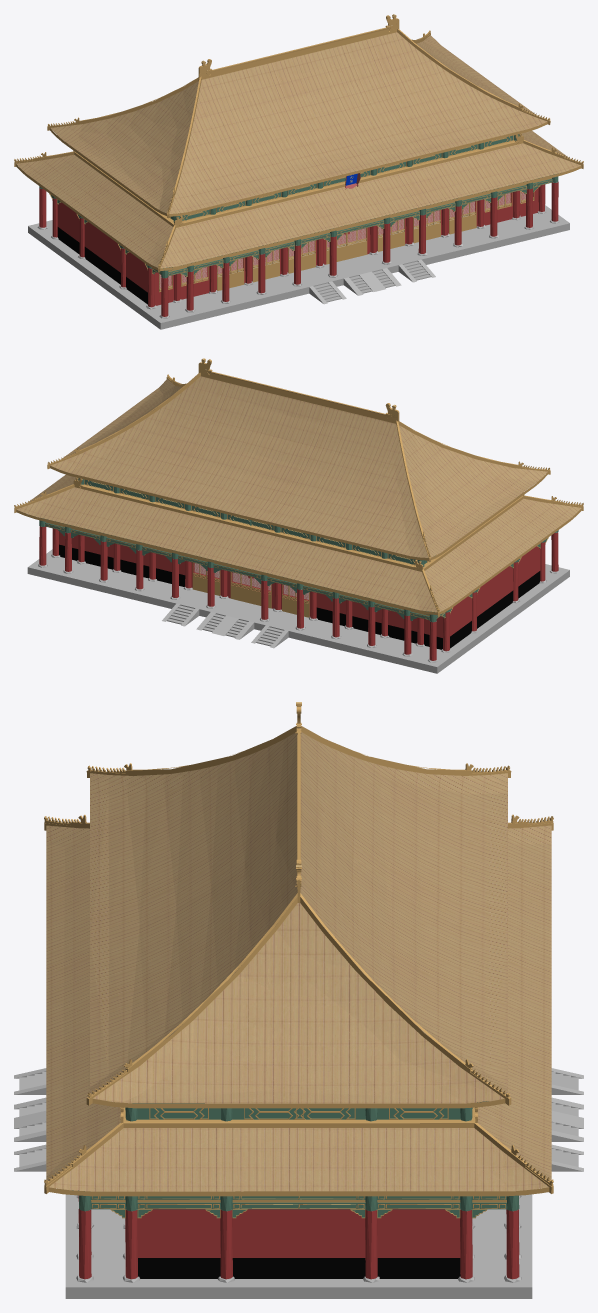
Rendered from 2019_08_08_135350_position_recolor.gltf.
3 renders of one model, top to bottom at view 1: azimuth 30°, elevation 25°; view 2: azimuth 150°, elevation 25°; view 3: azimuth 270°, elevation 25°, orthographic. The views are drawn at different scales.
Visible parts, largest first — view 1: polySurface3809:PIV; view 2: polySurface3809:PIV; view 3: polySurface3809:PIV.
Boxes of the visible parts, <box> form: polySurface3809:PIV: <box>14,14,583,329</box>; polySurface3809:PIV: <box>14,358,583,673</box>; polySurface3809:PIV: <box>14,702,583,1298</box>.
Size of what is drawn, in the model's own units: 79.75 by 34.74 by 52.66.
